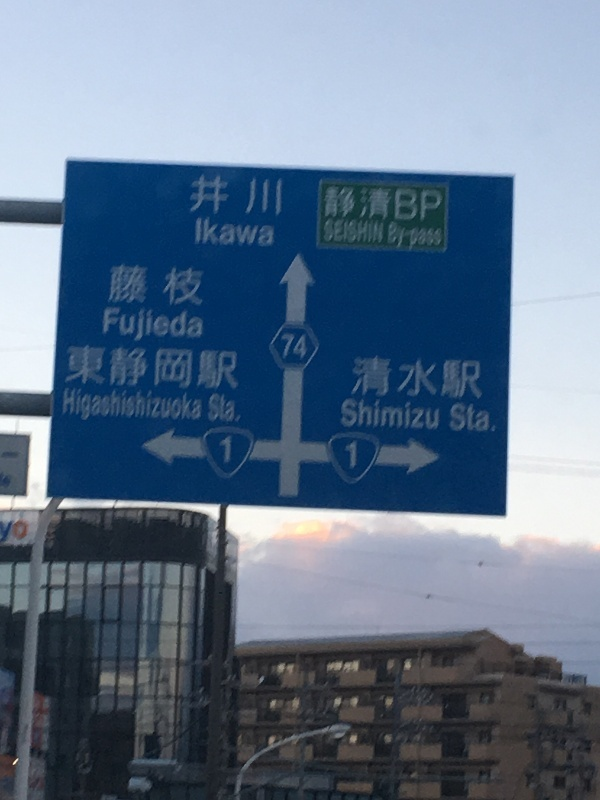text: (369, 354, 384, 401), (385, 354, 400, 401), (401, 354, 416, 401), (417, 354, 432, 401), (433, 354, 448, 401), (449, 354, 464, 401), (465, 354, 480, 401), (113, 262, 128, 308), (129, 262, 144, 308), (145, 262, 160, 308), (161, 262, 176, 308), (177, 262, 192, 308), (81, 344, 96, 390), (97, 344, 112, 390), (113, 344, 128, 390), (129, 344, 144, 390), (145, 344, 160, 390), (161, 344, 176, 390), (177, 344, 192, 390), (193, 344, 208, 390), (209, 344, 224, 390), (193, 172, 208, 217), (209, 172, 224, 217), (225, 172, 240, 217), (241, 172, 256, 217), (257, 172, 272, 217), (225, 344, 239, 390), (355, 354, 368, 401), (337, 185, 352, 223), (353, 185, 368, 223), (369, 185, 384, 223), (385, 185, 400, 223), (401, 185, 416, 223), (417, 185, 432, 223), (353, 398, 368, 432), (369, 398, 384, 432), (385, 398, 400, 432), (401, 398, 416, 432), (417, 398, 432, 432), (69, 344, 80, 390), (65, 390, 80, 423), (81, 390, 96, 423), (97, 390, 112, 423), (113, 390, 128, 423), (129, 390, 144, 423), (145, 390, 160, 423), (161, 390, 176, 423), (177, 390, 192, 423), (113, 308, 128, 340), (129, 308, 144, 340), (145, 308, 160, 340), (161, 308, 176, 340), (177, 308, 192, 340), (209, 218, 224, 249), (225, 218, 240, 249), (241, 218, 256, 249), (257, 218, 272, 249), (481, 404, 497, 433), (193, 262, 203, 308), (465, 404, 480, 433), (209, 396, 224, 424), (273, 172, 282, 217), (289, 334, 304, 361), (451, 404, 464, 433), (337, 220, 352, 245), (353, 220, 368, 245), (369, 220, 384, 245), (401, 223, 416, 247), (417, 223, 432, 247), (193, 308, 204, 340), (327, 185, 336, 223), (433, 185, 442, 223), (197, 218, 208, 249), (1, 520, 16, 542), (225, 396, 236, 424), (343, 398, 352, 432), (193, 390, 202, 423), (388, 223, 400, 247), (325, 220, 336, 245), (17, 520, 29, 542), (105, 308, 112, 340), (433, 223, 442, 247), (433, 398, 439, 432), (225, 435, 232, 464), (282, 334, 288, 361), (347, 440, 352, 469), (220, 435, 224, 464), (353, 440, 357, 469), (481, 354, 483, 401), (273, 218, 275, 249), (111, 262, 112, 308), (305, 334, 306, 361)
